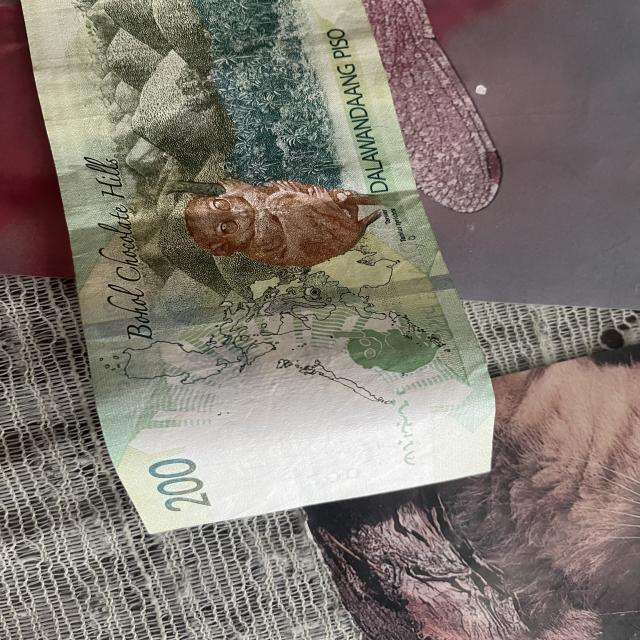200_tarsier: (186, 161, 398, 278)
200_tarsier_watermark: (327, 307, 446, 381)
